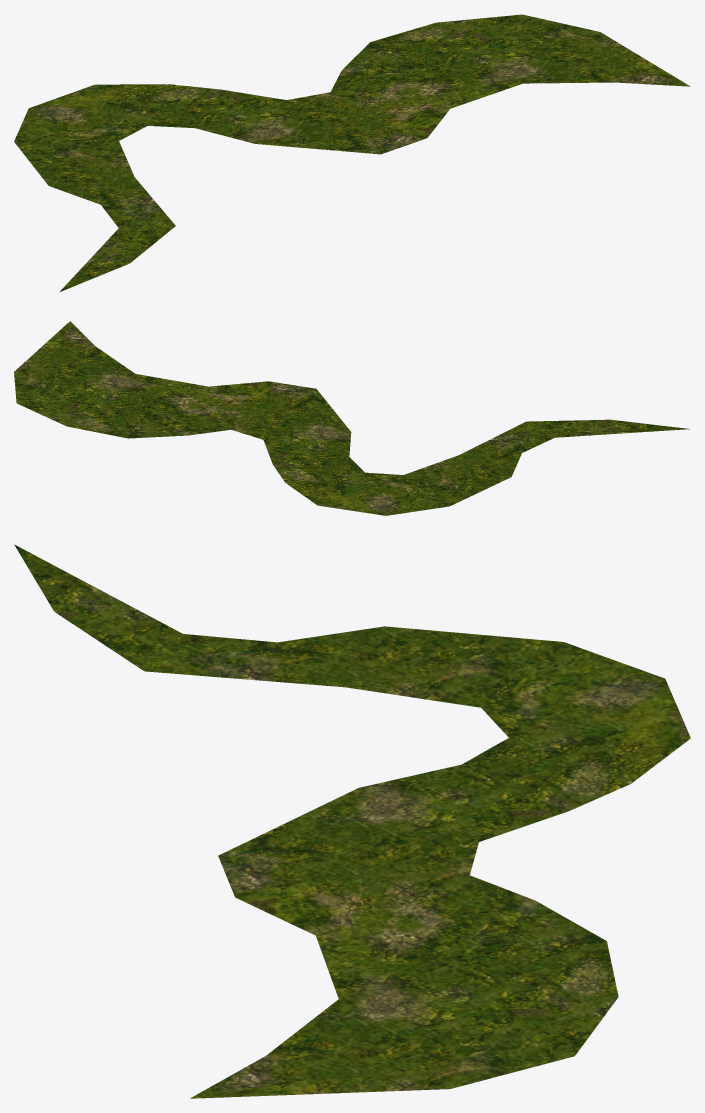
File: OVERHILL_A_01_WALL3.fbx
3 renders of one model, top to bottom at view 1: azimuth 30°, elevation 25°; view 2: azimuth 150°, elevation 25°; view 3: azimuth 270°, elevation 25°, orthographic. The views are drawn at different scales.
Visible parts, largest first — view 1: OVERHILL_A_01_WALL3; view 2: OVERHILL_A_01_WALL3; view 3: OVERHILL_A_01_WALL3.
Boxes of the visible parts, x1,y1,x2,y2 form: OVERHILL_A_01_WALL3: (14, 14, 690, 291); OVERHILL_A_01_WALL3: (14, 321, 689, 515); OVERHILL_A_01_WALL3: (14, 544, 690, 1098).
Size of the model in its own units: 55827 by 55.08 by 28804.
Materials: 1 (1 with a texture image).
